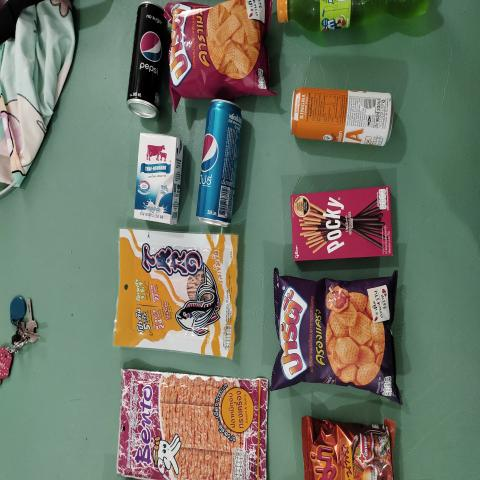bento_red: (121, 384, 265, 474)
mama: (308, 426, 396, 480)
party_purple: (279, 282, 391, 384)
party_red: (174, 2, 264, 96)
pepsi_black: (128, 3, 160, 117)
pepsi_blue: (197, 106, 240, 225)
pokki: (294, 186, 388, 259)
singha_yellow: (280, 79, 394, 148)
taro_yellow: (122, 240, 234, 342)
thai_denmark: (135, 138, 181, 223)
